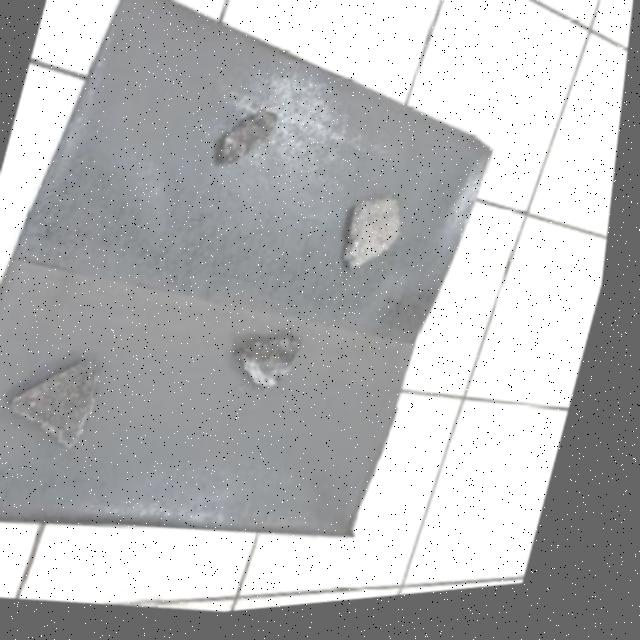Road Debris: (16, 343, 119, 453), (336, 181, 426, 287), (247, 337, 313, 398), (220, 114, 282, 176)
